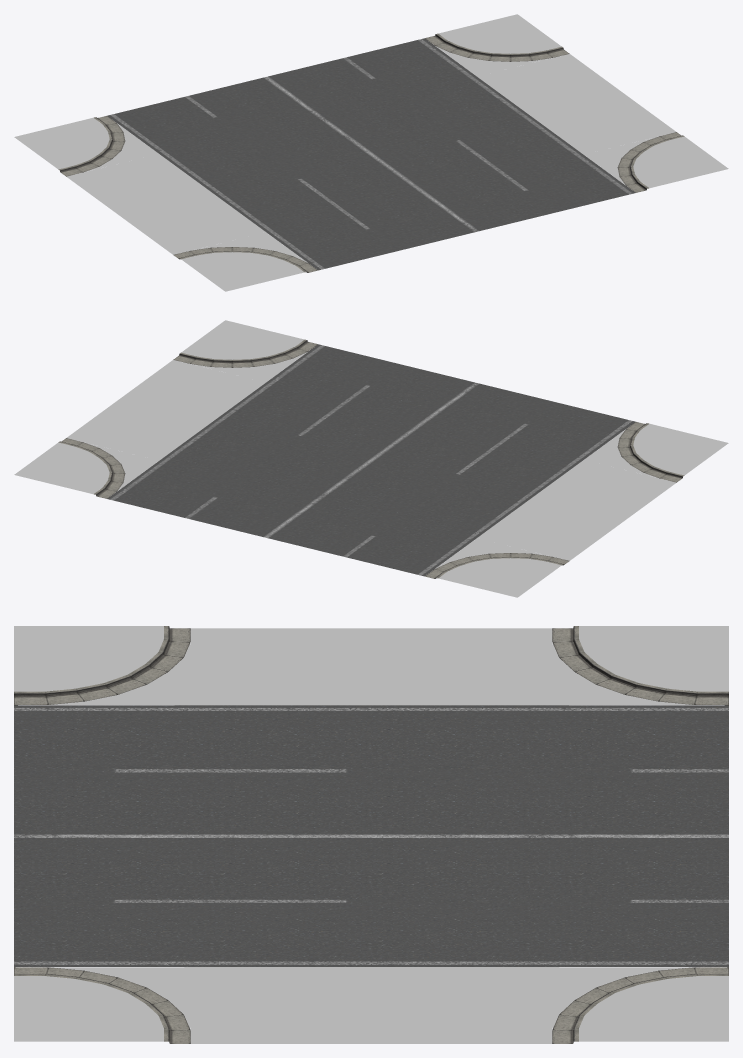
The model's file is 4syasen_Cross_1syasen.FBX.
The picture shows the model from 3 angles, top to bottom: view 1: azimuth 30°, elevation 25°; view 2: azimuth 150°, elevation 25°; view 3: azimuth 270°, elevation 25°; orthographic projection. The views are drawn at different scales.
Parts seen in each view (by area): view 1: 4syasen_Cross_1syasen; view 2: 4syasen_Cross_1syasen; view 3: 4syasen_Cross_1syasen.
Part boxes in pixels (x1,y1,x2,y2): 4syasen_Cross_1syasen: (14,14,728,291); 4syasen_Cross_1syasen: (14,320,728,597); 4syasen_Cross_1syasen: (14,626,728,1043).
Size of the model in its own units: 1903 by 5 by 1384.
